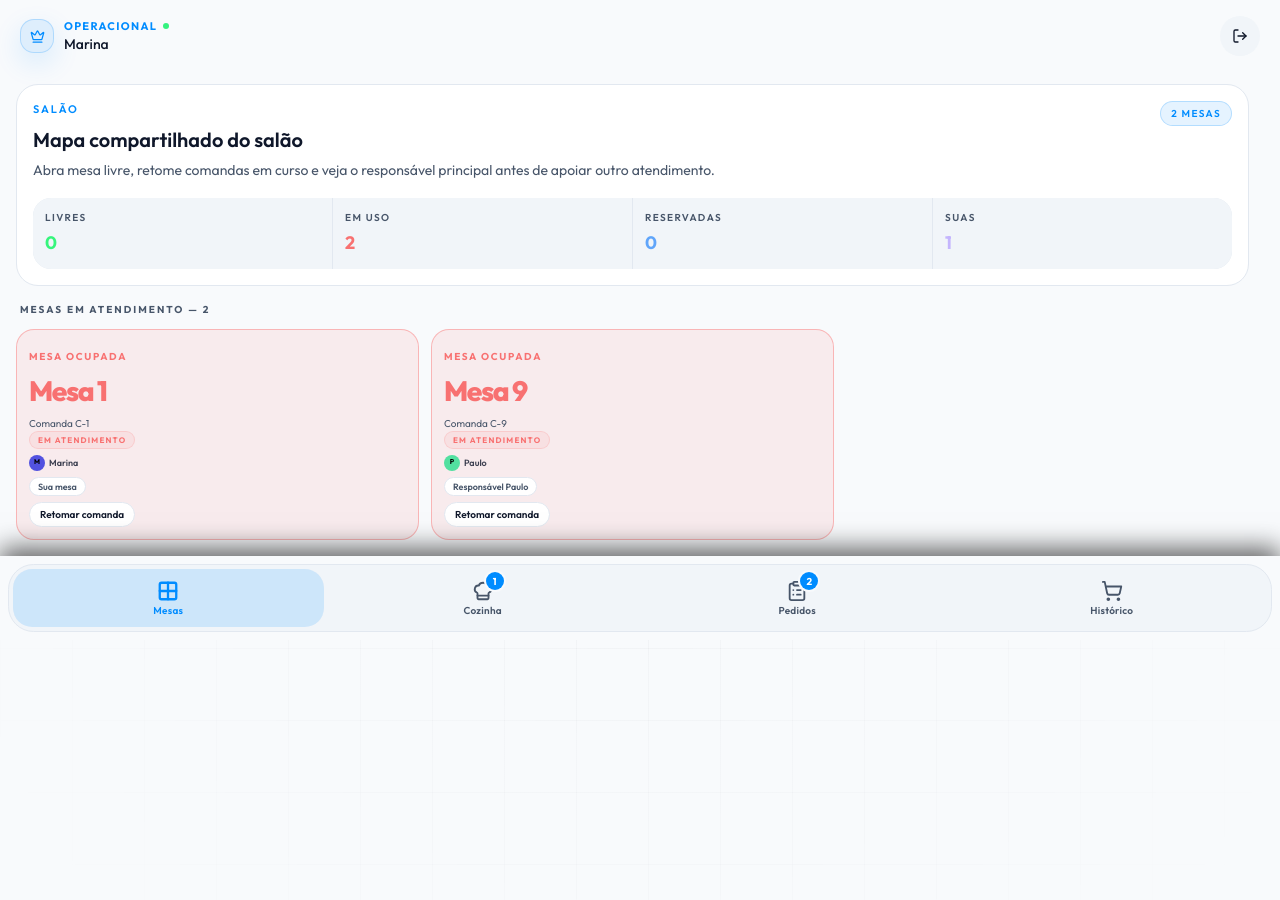
StaffMobileShell › mostra comandas abertas do salão e identifica a responsabilidade principal
Click the button with test id "nav-pedidos" at (797, 598), box [642, 569, 952, 627]
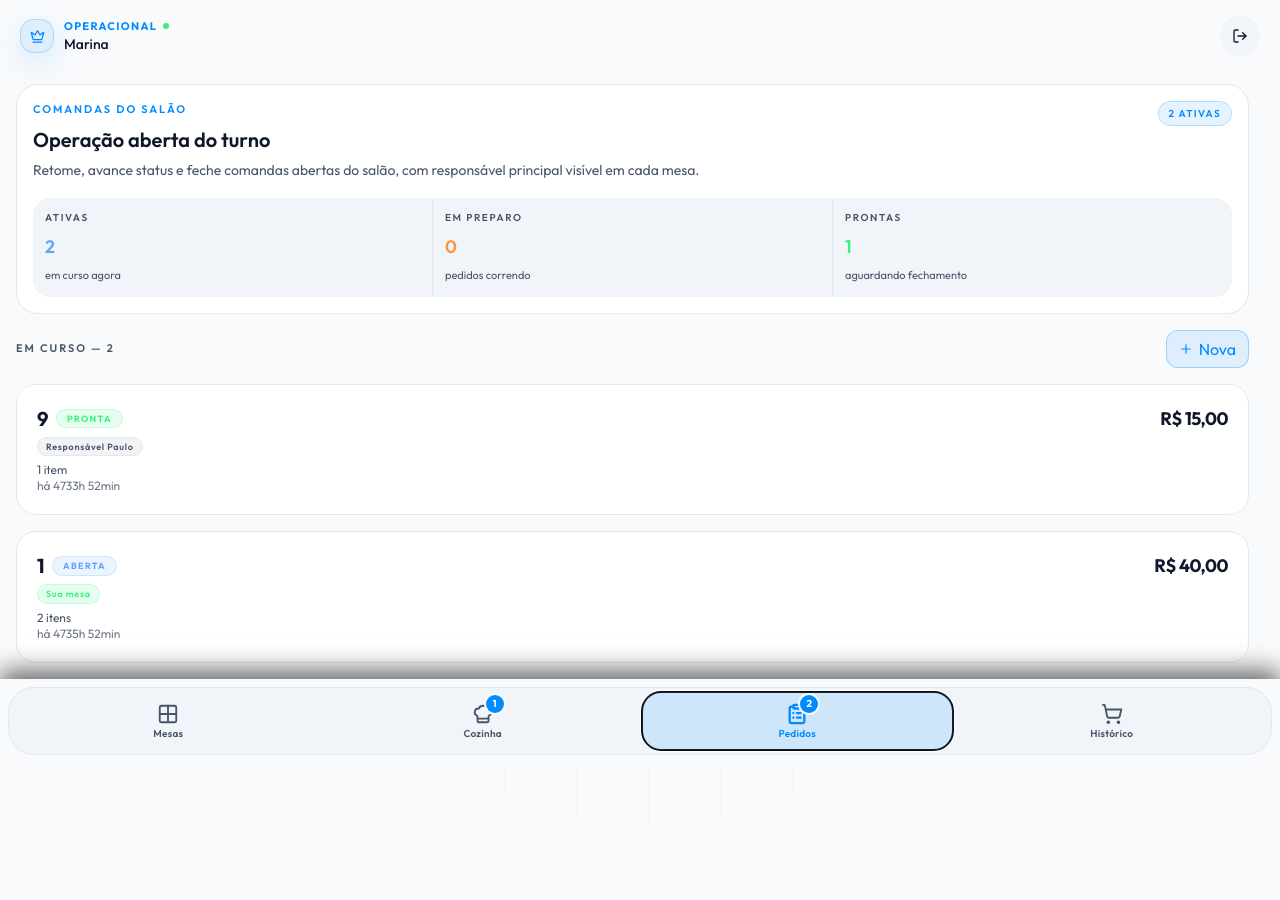
Expected: the text "Comandas do salão" is shown, [33, 102, 187, 116]
Expected: the element with test id "summary-card-ativas" shows "2", [45, 234, 55, 258]
Expected: the button named "Abrir detalhes da 1" is shown, [17, 532, 1248, 662]
